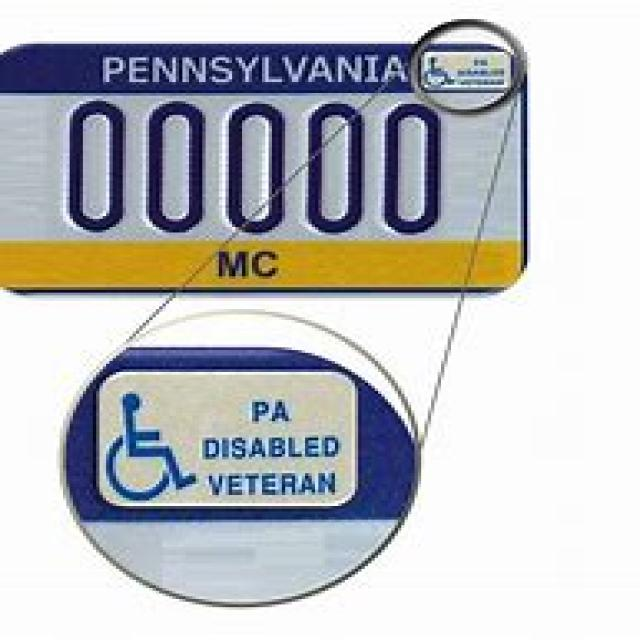car-handicap-placard: (101, 388, 202, 505), (420, 53, 458, 89)
